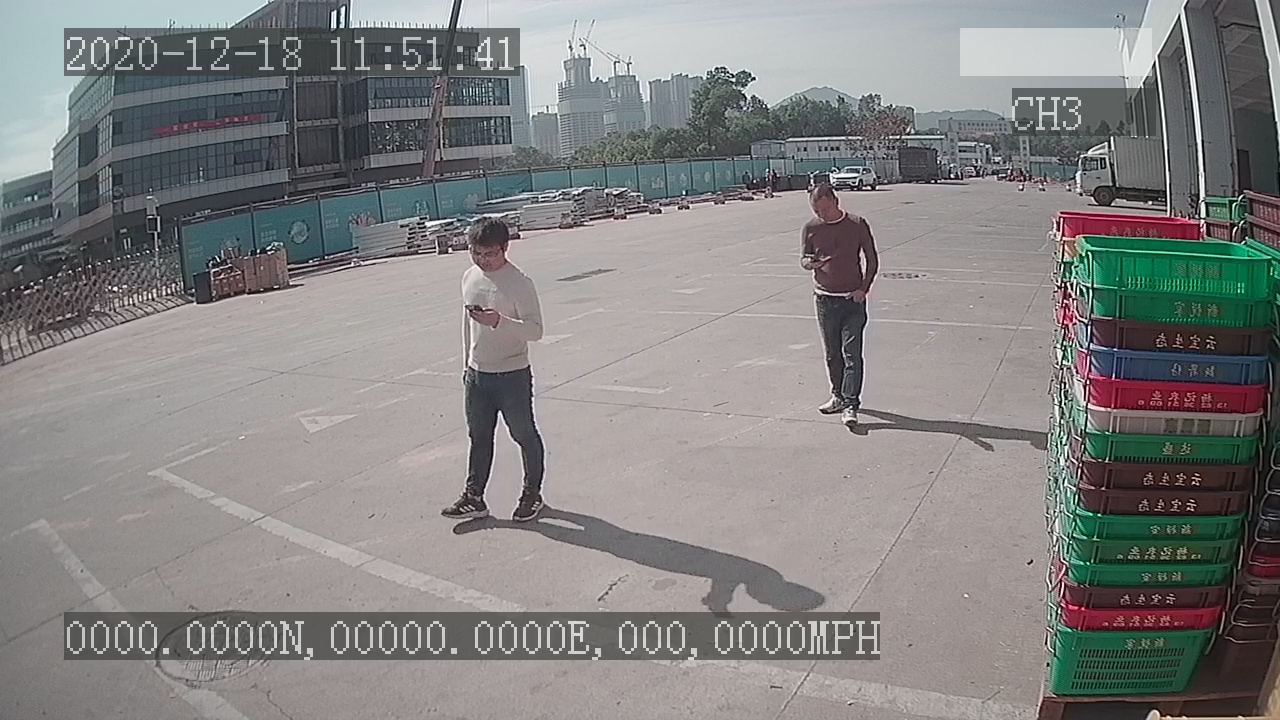person: (431, 210, 549, 538), (790, 172, 883, 436)
